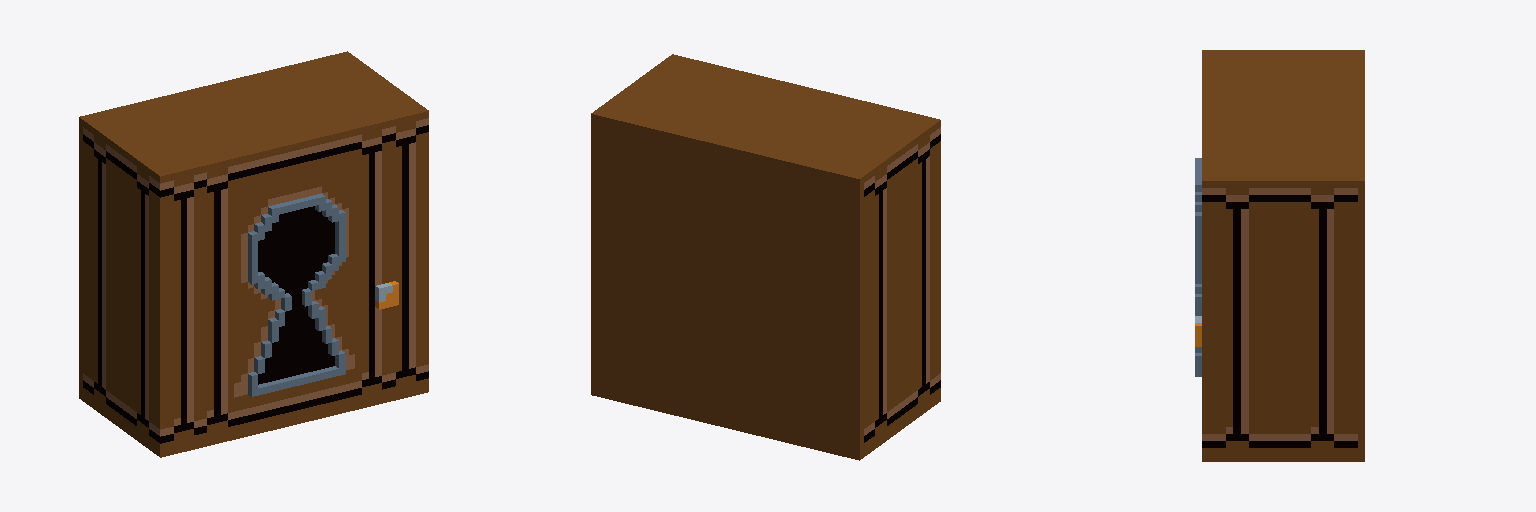
3 views of the same model, side by side, from view 1: azimuth 30°, elevation 25°; view 2: azimuth 150°, elevation 25°; view 3: azimuth 270°, elevation 25° (orthographic).
Visible parts, largest first — view 1: object 1; view 2: object 1; view 3: object 1.
Part boxes in pixels (x1,y1,x2,y2): object 1: (79, 51, 428, 457); object 1: (591, 54, 940, 460); object 1: (1195, 50, 1364, 461).
Size of the model in its own units: 4 by 4 by 2.2.
Materials: 1 (1 with a texture image).